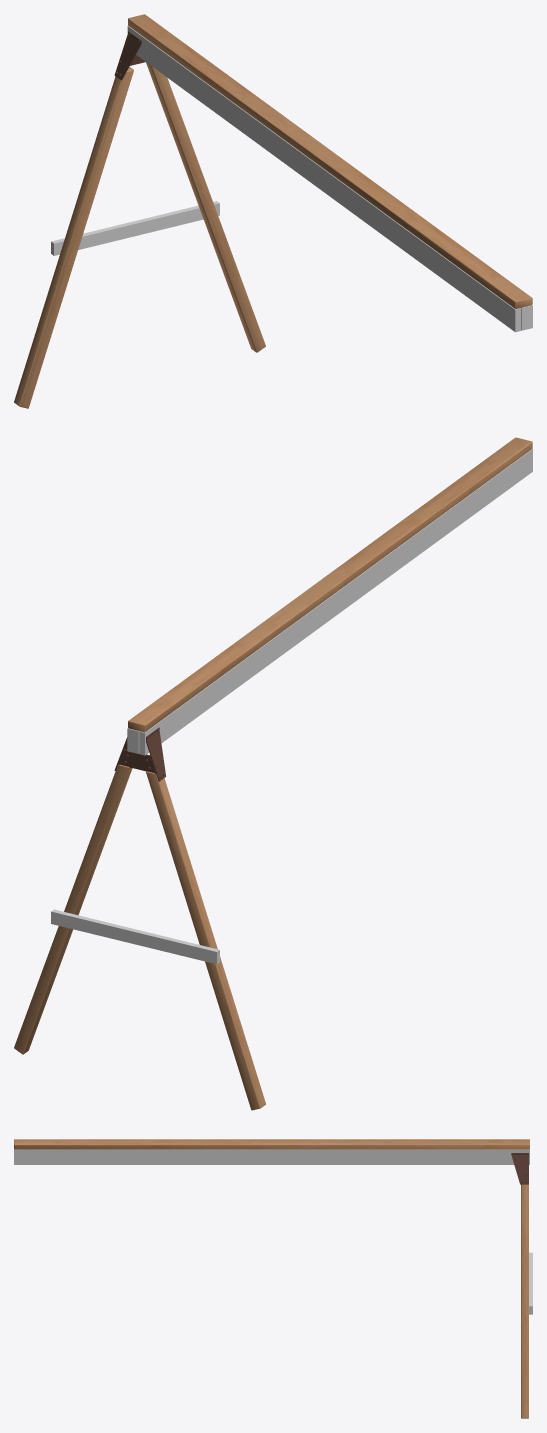
The picture shows the model from 3 angles, top to bottom: view 1: azimuth 30°, elevation 25°; view 2: azimuth 150°, elevation 25°; view 3: azimuth 270°, elevation 25°; orthographic projection. The views are drawn at different scales.
Visible parts, largest first — view 1: Plane003, Plane003_1,_colorize_, Plane003_2; view 2: Plane003, Plane003_1,_colorize_, Plane003_2; view 3: Plane003_1,_colorize_, Plane003, Plane003_2.
Part boxes in pixels (x1=…): Plane003: x1=14, y1=14, x2=532, y2=408; Plane003_1,_colorize_: x1=51, y1=26, x2=532, y2=332; Plane003_2: x1=114, y1=31, x2=145, y2=80; Plane003: x1=14, y1=437, x2=532, y2=1110; Plane003_1,_colorize_: x1=51, y1=449, x2=532, y2=964; Plane003_2: x1=114, y1=727, x2=165, y2=781; Plane003_1,_colorize_: x1=14, y1=1149, x2=532, y2=1314; Plane003: x1=14, y1=1139, x2=529, y2=1418; Plane003_2: x1=511, y1=1153, x2=528, y2=1184.
Bounding box in the file's own units: 1.98 × 2.76 × 5.43.
3 materials, 1 textured.
